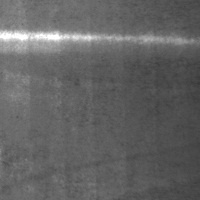scratches: (0, 27, 198, 54)
